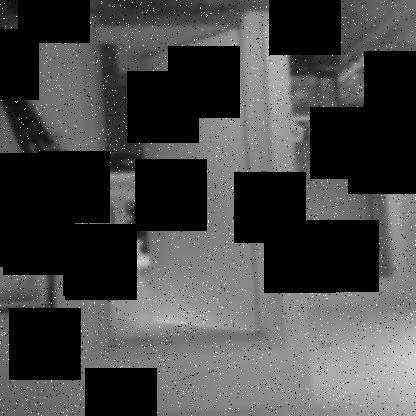Porte: (78, 13, 286, 360)
